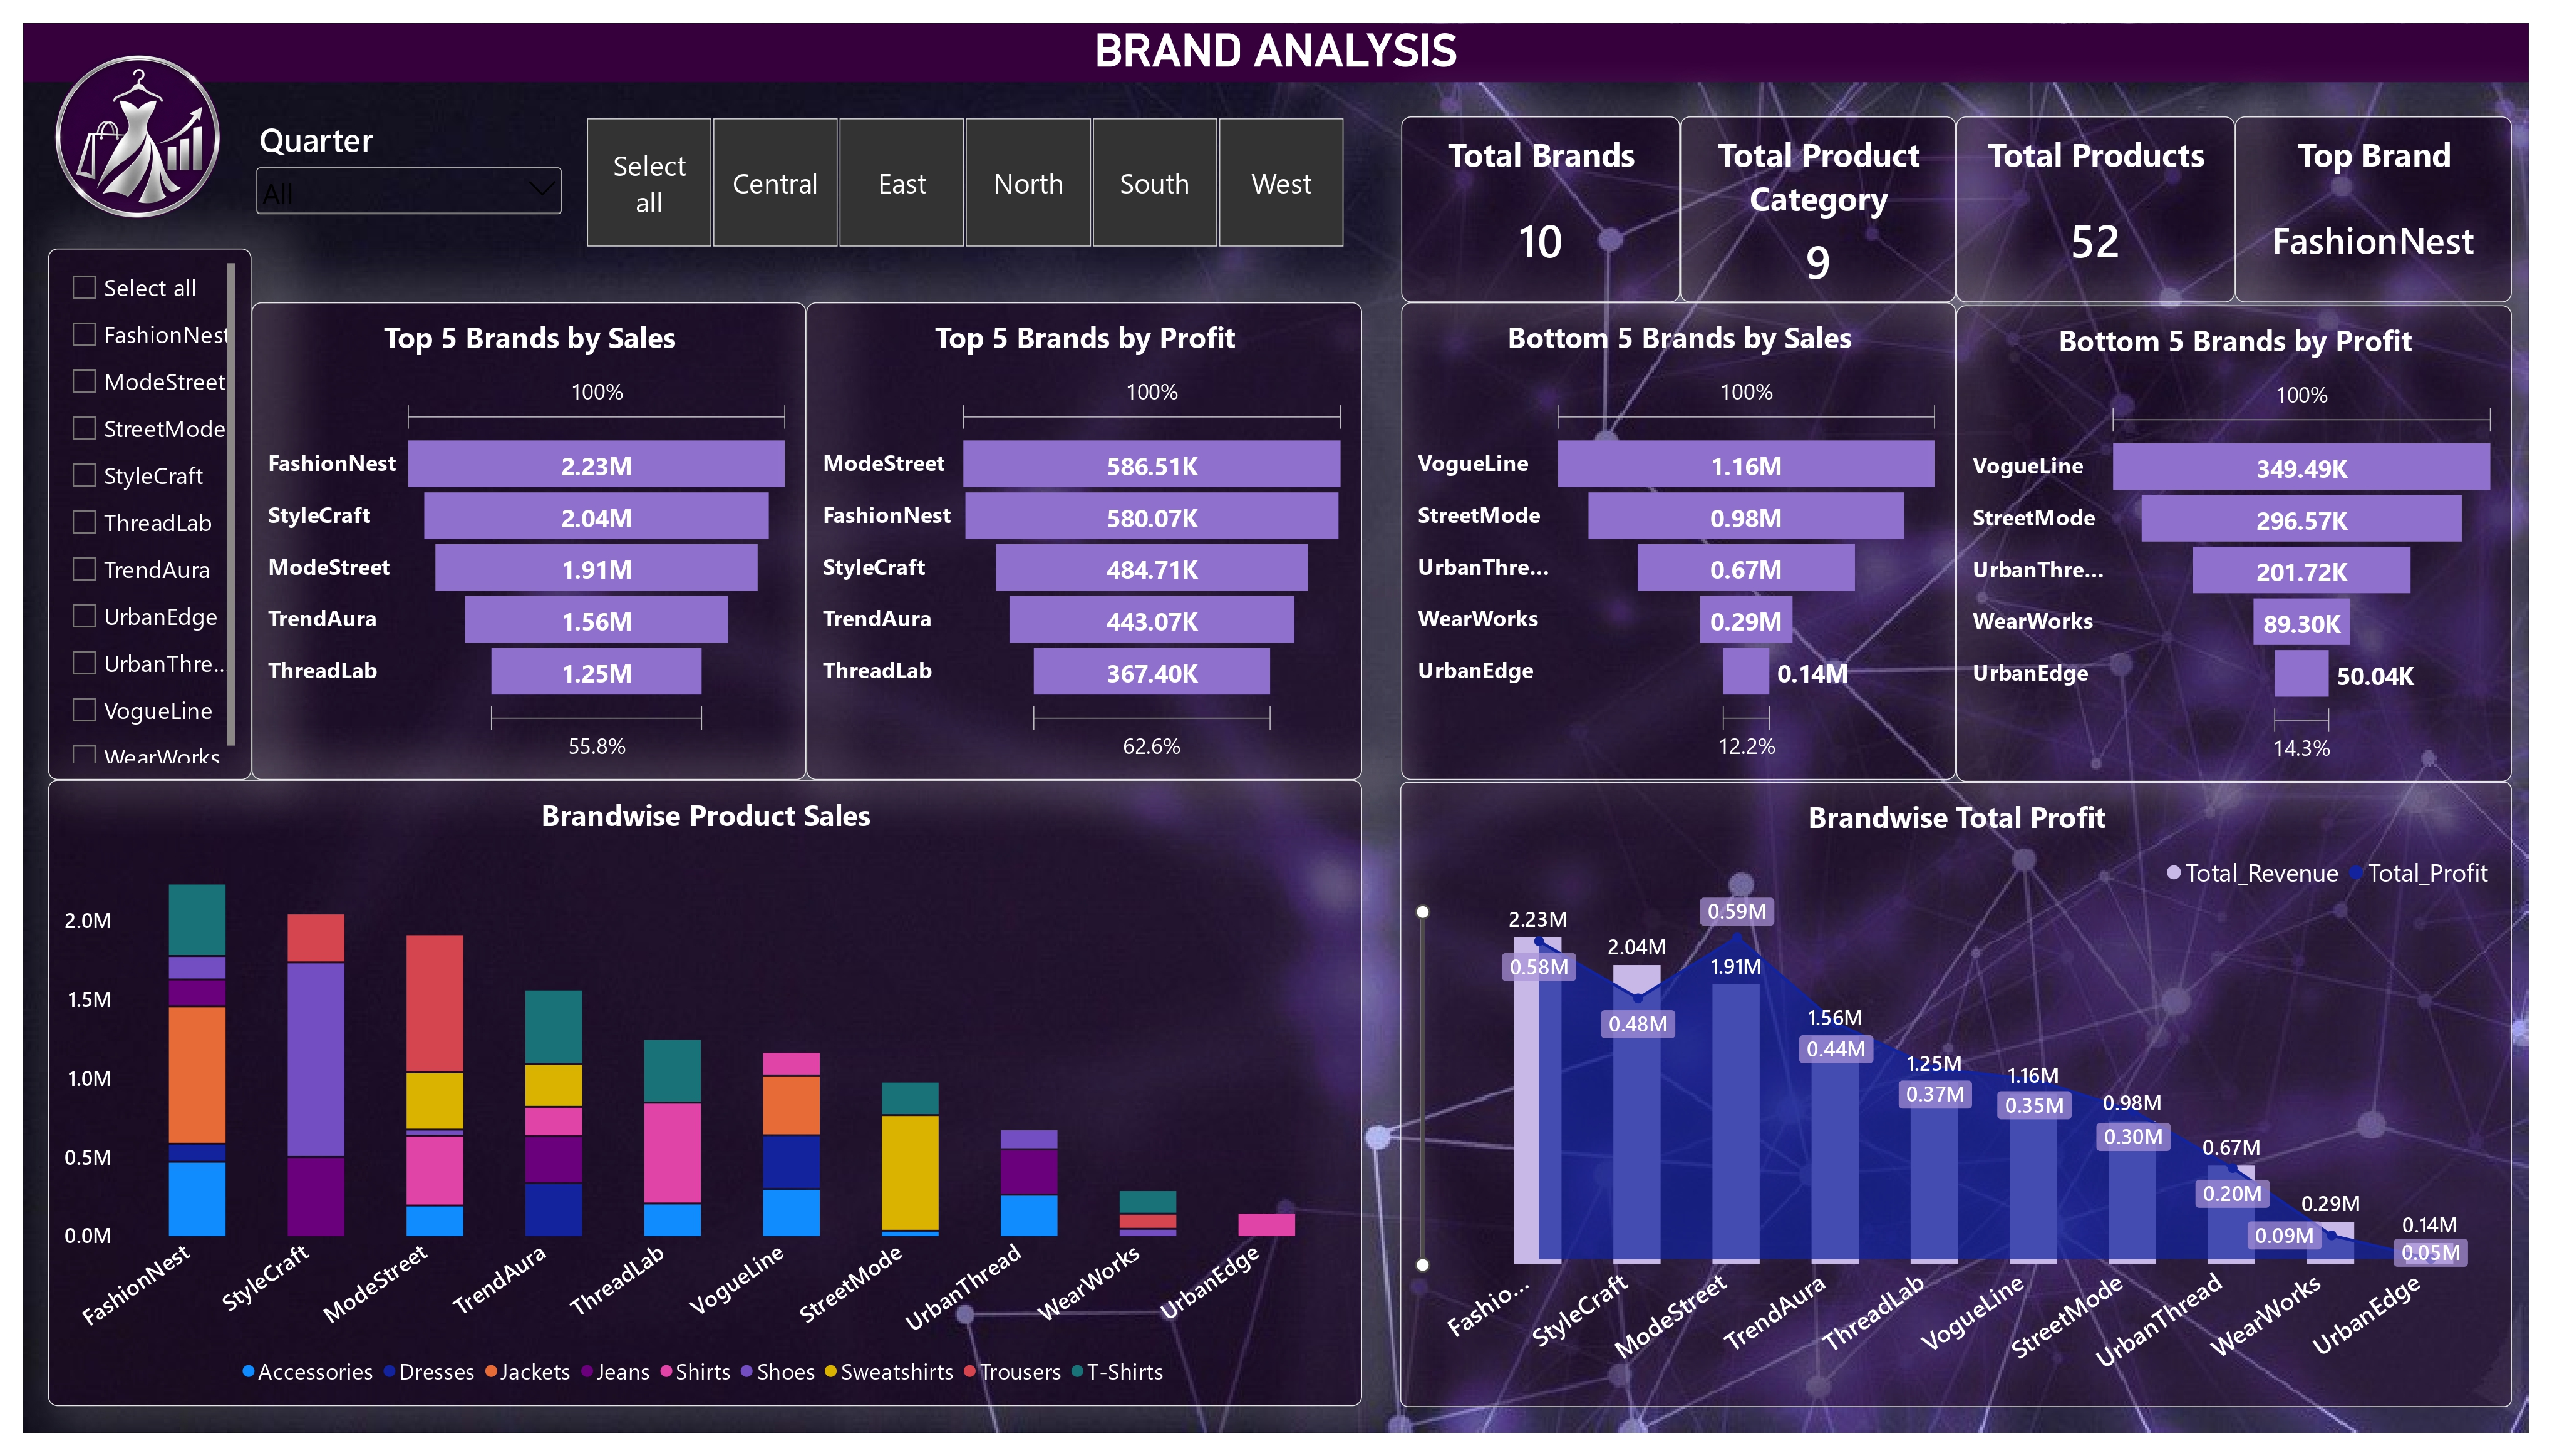

The page's visual inventory and layout, read from the dashboard file:
{"tool":"powerbi","page":{"name":"Brand_Analysis","canvas":[2560,1440],"ordinal":3},"visuals":[{"type":"shape","title":"PRODUCT ANALYSIS","box":[0,0,2560,60],"z":0},{"type":"funnel","title":"Top 5 Brands by Sales","fields":{"Category":["Product_dim.Brand"],"Y":["measure.Total_Revenue"]},"box":[232.5,285,567.5,487.5],"z":1000},{"type":"funnel","title":"Bottom 5 Brands by Sales","fields":{"Category":["Product_dim.Brand"],"Y":["measure.Total_Revenue"]},"box":[1407.5,285,567.5,487.5],"z":2000},{"type":"image","box":[25,30,182.5,170],"z":3000},{"type":"lineStackedColumnComboChart","title":"Brandwise Total Profit","fields":{"Category":["Product_dim.Brand"],"Y":["measure.Total_Revenue"],"Y2":["measure.Total_Profit"]},"box":[1406.7,774.5,1136.5,639.4],"z":4000},{"type":"cardVisual","title":"Top Brand","fields":{"Data":["Min(Product_dim.Brand)"]},"box":[2260,95,282.5,190],"z":5000},{"type":"cardVisual","title":"Total Products","fields":{"Data":["measure.Product_Name"]},"box":[1975,95,285,190],"z":6000},{"type":"cardVisual","title":"Total Product Category","fields":{"Data":["measure.Products"]},"box":[1692.5,95,282.5,190],"z":7000},{"type":"cardVisual","title":"Total Brands","fields":{"Data":["measure.Brands"]},"box":[1407.5,95,285,190],"z":8000},{"type":"columnChart","title":"Brandwise Product Sales","fields":{"Category":["Product_dim.Brand"],"Series":["Product_dim.Product_Category"],"Y":["measure.Total_Revenue"]},"box":[25,772.5,1342.5,640],"z":9000},{"type":"slicer","fields":{"Values":["Product_dim.Brand"]},"box":[25,230,207.5,542.5],"z":10000},{"type":"slicer","fields":{"Values":["Territory_dim.Region"]},"box":[555,95,812.5,135],"z":11000},{"type":"slicer","fields":{"Values":["Date_dim.Order_Date.Variation.Date Hierarchy.Quarter"]},"box":[232.5,95,322.5,135],"z":12000},{"type":"funnel","title":"Top 5 Brands by Profit","fields":{"Category":["Product_dim.Brand"],"Y":["measure.Total_Profit"]},"box":[800,285,567.5,487.5],"z":13000},{"type":"funnel","title":"Bottom 5 Brands by Profit","fields":{"Category":["Product_dim.Brand"],"Y":["measure.Total_Profit"]},"box":[1975,287.5,567.5,487.5],"z":14000}]}

Visuals, with their boxes on the page's 2560x1440 design canvas (x1, y1, x2, y2). These are canvas units, not pixel positions in the 2552x1456 screenshot, which may show the page scaled, cropped or inside an application window:
"PRODUCT ANALYSIS" shape: {"x1": 0, "y1": 0, "x2": 2560, "y2": 60}
"Top 5 Brands by Sales" funnel: {"x1": 232, "y1": 285, "x2": 800, "y2": 772}
"Bottom 5 Brands by Sales" funnel: {"x1": 1408, "y1": 285, "x2": 1975, "y2": 772}
image: {"x1": 25, "y1": 30, "x2": 208, "y2": 200}
"Brandwise Total Profit" lineStackedColumnComboChart: {"x1": 1407, "y1": 774, "x2": 2543, "y2": 1414}
"Top Brand" cardVisual: {"x1": 2260, "y1": 95, "x2": 2542, "y2": 285}
"Total Products" cardVisual: {"x1": 1975, "y1": 95, "x2": 2260, "y2": 285}
"Total Product Category" cardVisual: {"x1": 1692, "y1": 95, "x2": 1975, "y2": 285}
"Total Brands" cardVisual: {"x1": 1408, "y1": 95, "x2": 1692, "y2": 285}
"Brandwise Product Sales" columnChart: {"x1": 25, "y1": 772, "x2": 1368, "y2": 1412}
slicer - Product_dim.Brand: {"x1": 25, "y1": 230, "x2": 232, "y2": 772}
slicer - Territory_dim.Region: {"x1": 555, "y1": 95, "x2": 1368, "y2": 230}
slicer - Date_dim.Order_Date.Variation.Date Hierarchy.Quarter: {"x1": 232, "y1": 95, "x2": 555, "y2": 230}
"Top 5 Brands by Profit" funnel: {"x1": 800, "y1": 285, "x2": 1368, "y2": 772}
"Bottom 5 Brands by Profit" funnel: {"x1": 1975, "y1": 288, "x2": 2542, "y2": 775}
